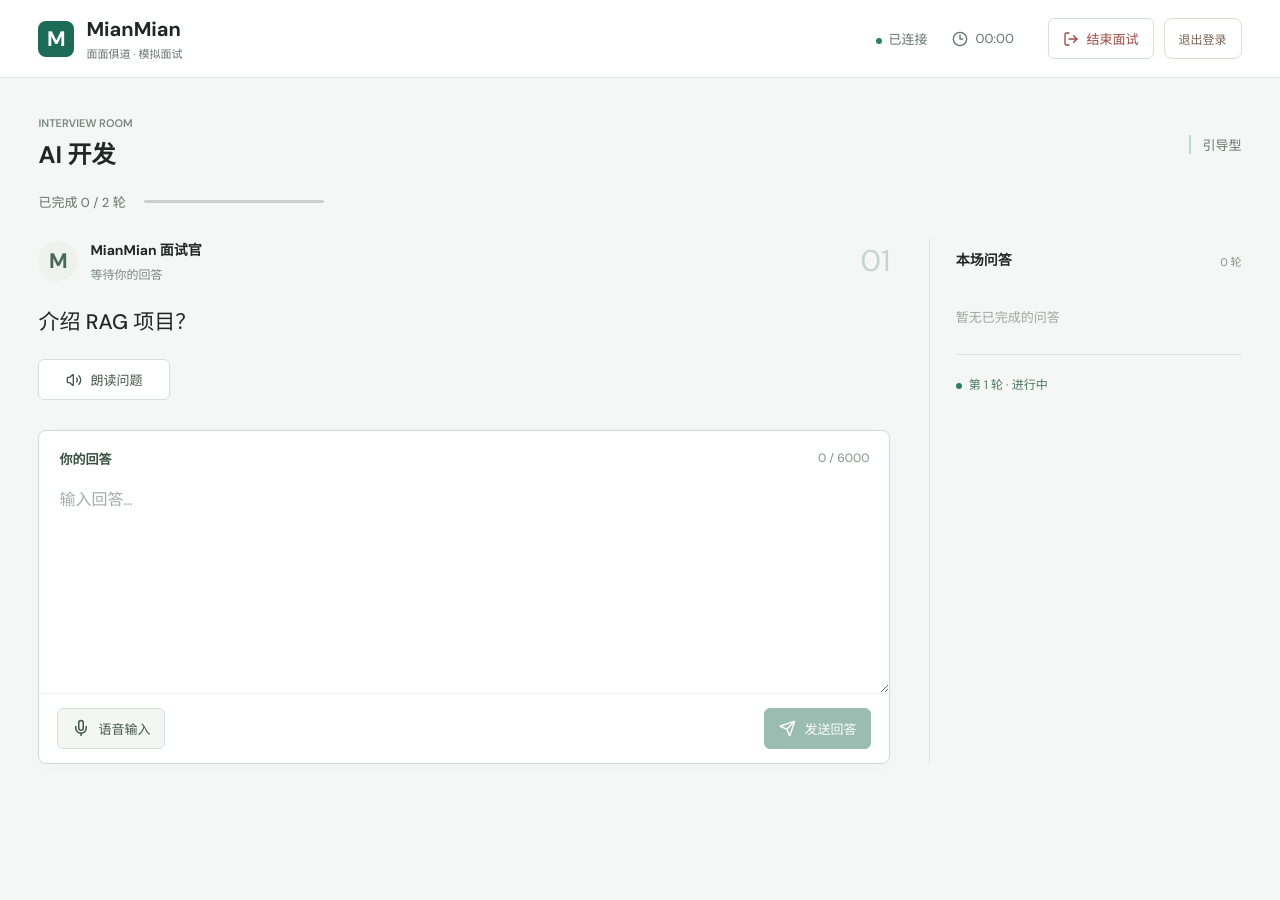
Test: Interview room › handles denied permission and discards a late grant after cancellation
The image size is (1280, 900).
Click the button "语音输入".
click(111, 728)  # box [57,708,165,749]
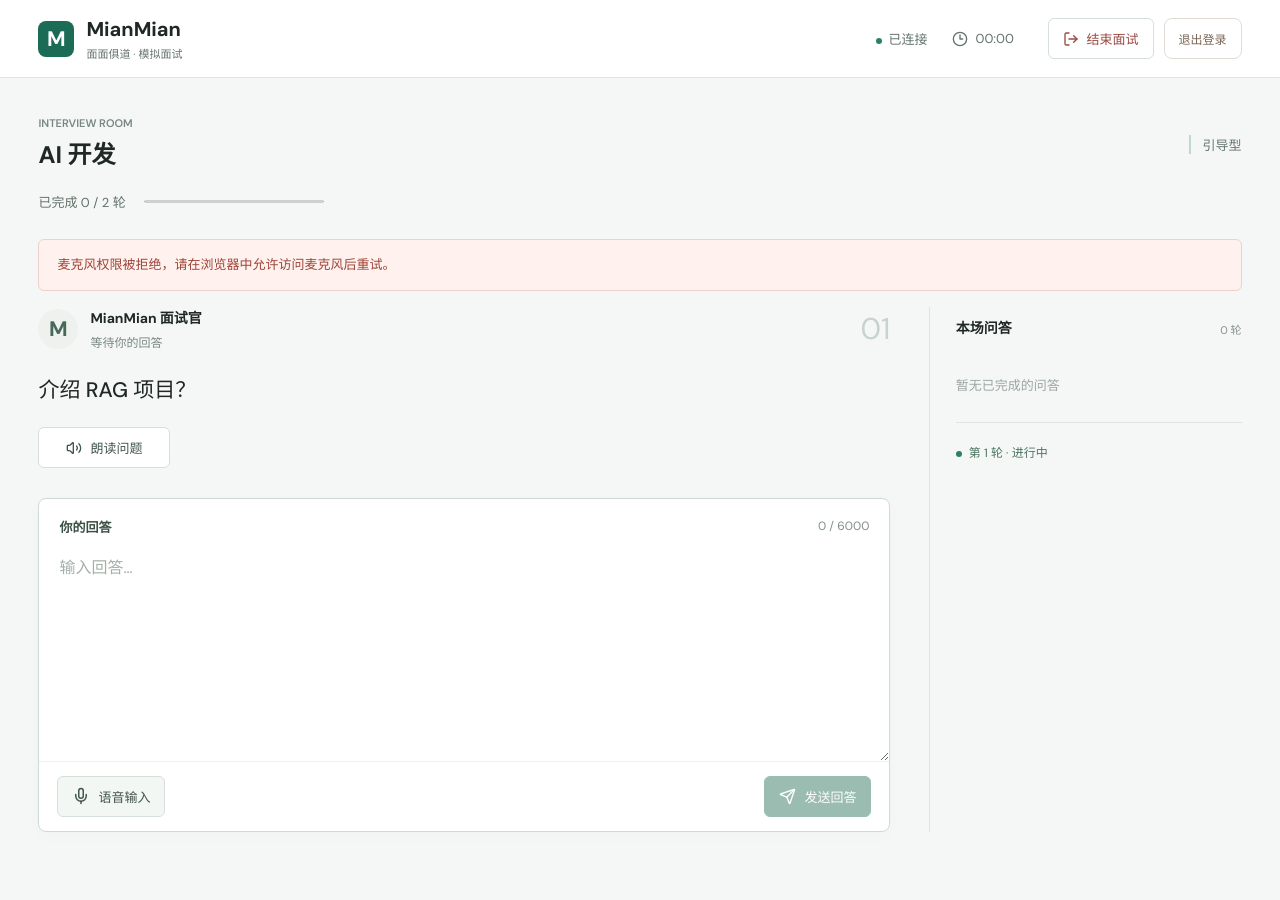
Expected: the text "麦克风权限被拒绝" is shown, [57,256,395,273]
Click the button "语音输入".
click(111, 796)  # box [57,776,165,817]
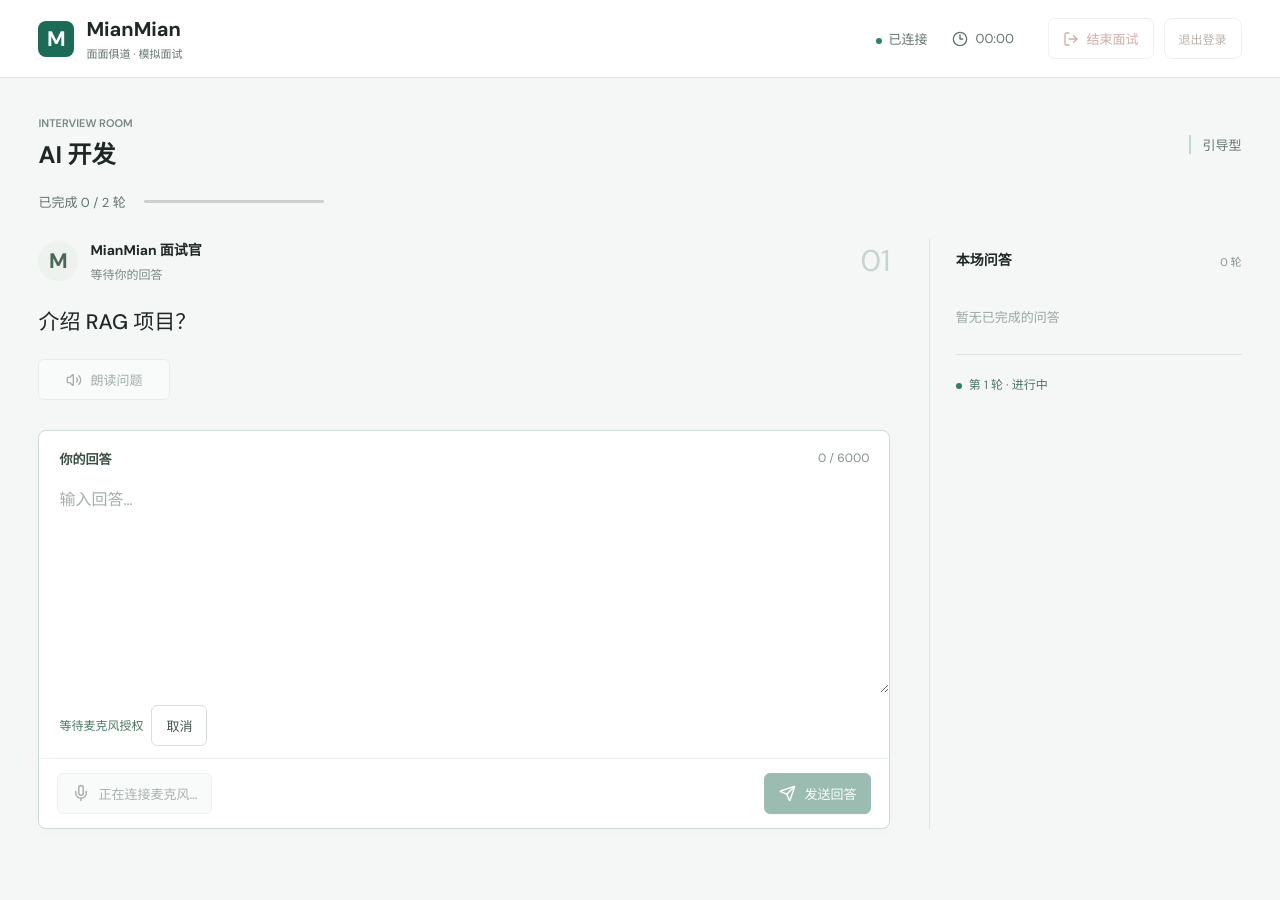
Click the button "取消".
click(179, 725)  # box [151,705,207,746]
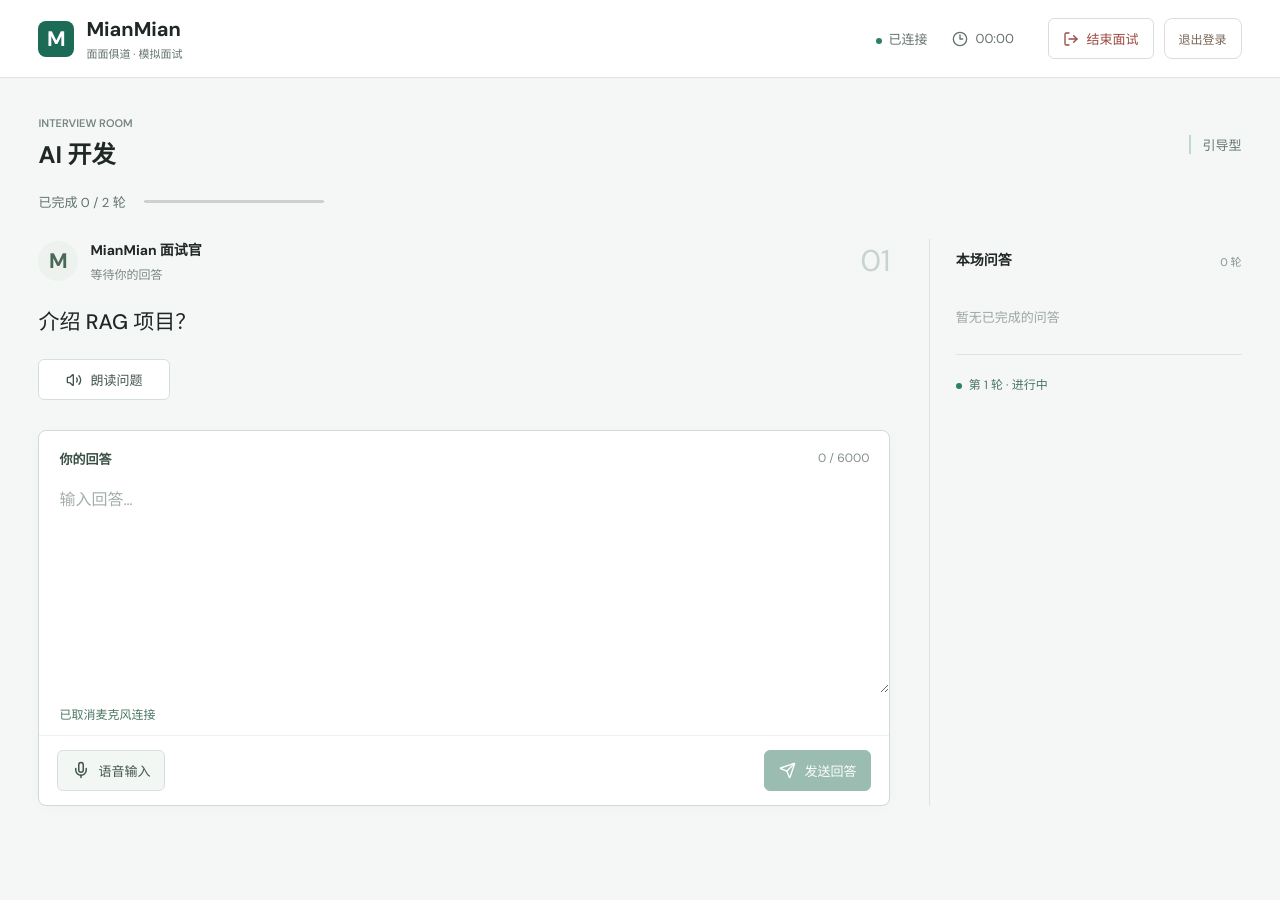
Expected: the button "语音输入" is enabled, [57,750,165,791]
